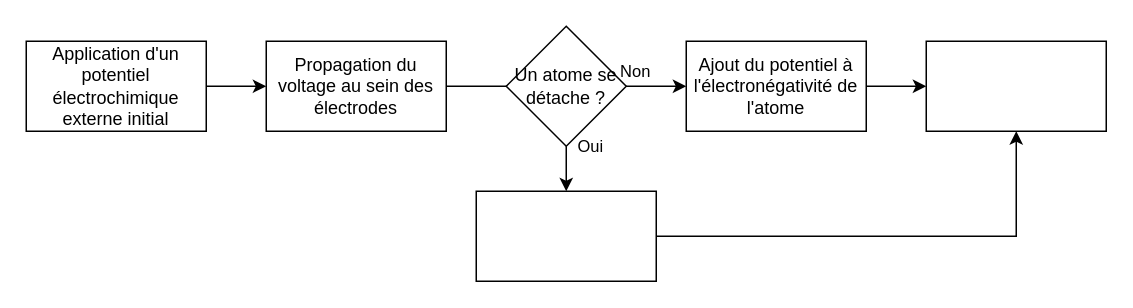
Image size: 1133x308. Some labels were removed from this diagram. Each missing label, with the centre of its shape:
Relaxation de l'électronégativité vers sa valeur atomique: pixel 565 235
Équilibration des charges par la méthode QEq: pixel 1015 85
